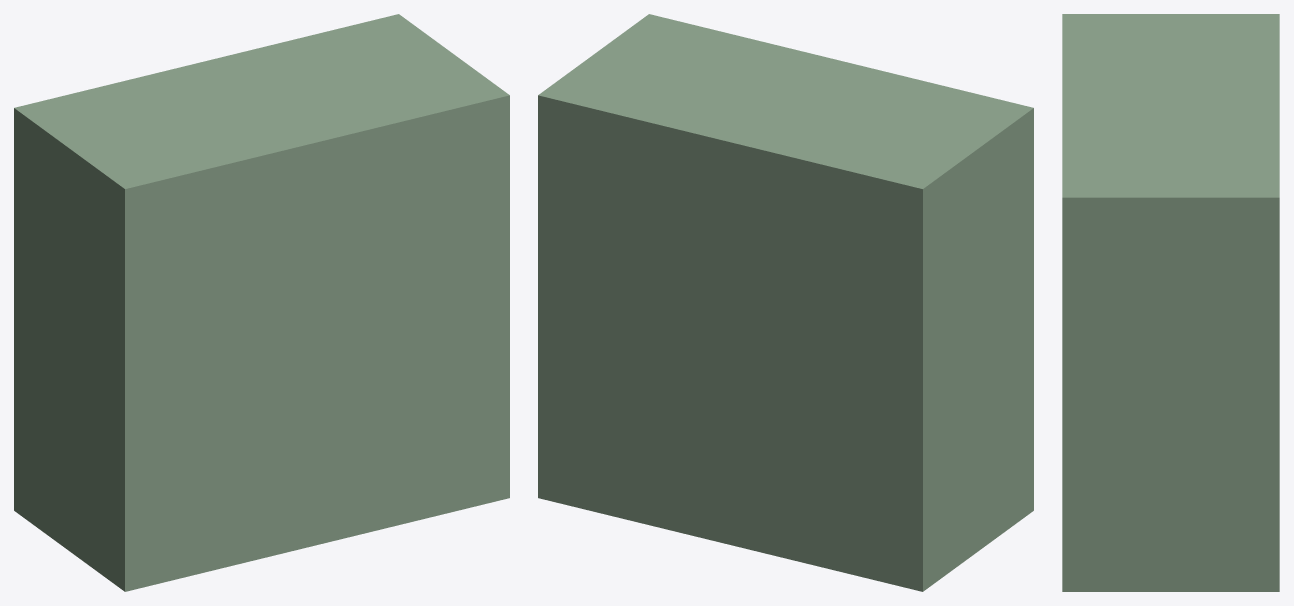
File: Climb_VerticalSlab.glb
3 views of the same model, side by side, from view 1: azimuth 30°, elevation 25°; view 2: azimuth 150°, elevation 25°; view 3: azimuth 270°, elevation 25° (orthographic). The views are drawn at different scales.
Visible parts, largest first — view 1: Climb_VerticalSlab_body; view 2: Climb_VerticalSlab_body; view 3: Climb_VerticalSlab_body.
Part boxes in pixels (bbox=[...]): Climb_VerticalSlab_body: bbox=[14, 14, 509, 591]; Climb_VerticalSlab_body: bbox=[538, 14, 1033, 591]; Climb_VerticalSlab_body: bbox=[1062, 14, 1279, 591].
Bounding box in the file's own units: 1 × 1 × 0.5.
